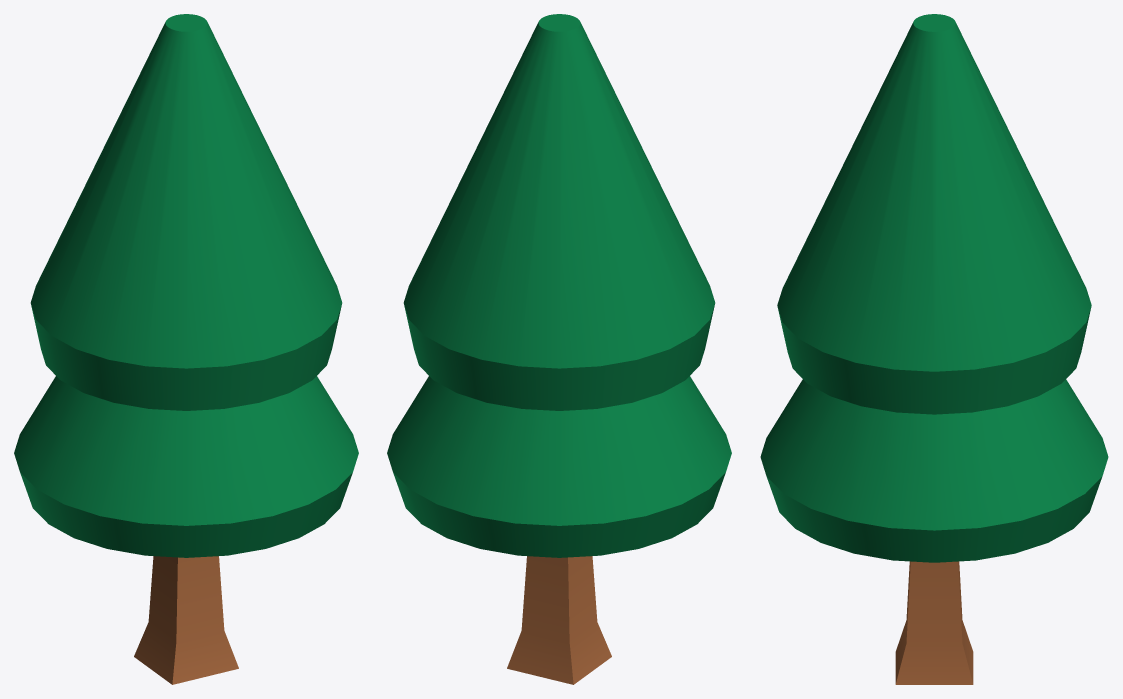
Rendered from treePine.glb.
3 renders of one model, left to right at view 1: azimuth 30°, elevation 25°; view 2: azimuth 150°, elevation 25°; view 3: azimuth 270°, elevation 25°, orthographic.
Visible parts, largest first — view 1: treePine; view 2: treePine; view 3: treePine.
Boxes of the visible parts, bbox=[...] form: treePine: bbox=[14, 14, 358, 684]; treePine: bbox=[387, 14, 731, 684]; treePine: bbox=[760, 14, 1108, 684].
Size of the model in its own units: 0.9485 by 1.94 by 0.9485.
